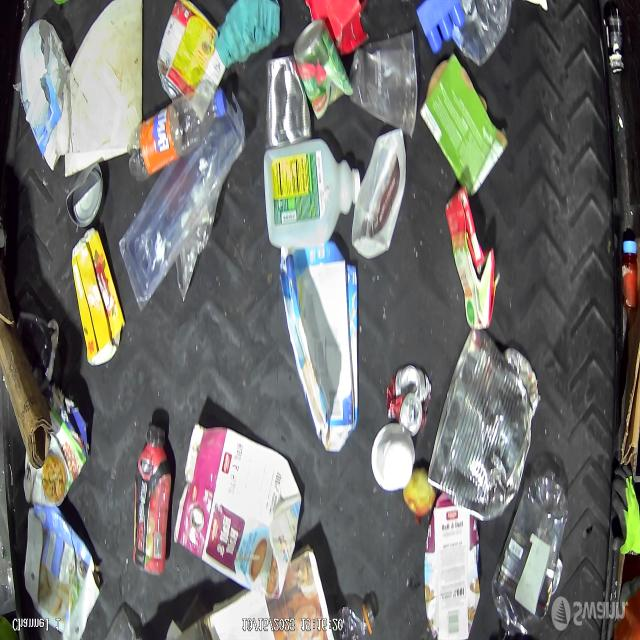can: (428, 326, 536, 522), (156, 0, 228, 118), (293, 18, 353, 121), (264, 56, 312, 149), (385, 365, 433, 441), (66, 161, 104, 230)
milk_jug: (20, 19, 73, 174), (350, 126, 408, 265)
non_white_jug: (173, 424, 303, 594), (280, 238, 359, 457), (262, 140, 360, 248)
plastic_bottle: (490, 467, 571, 640), (126, 84, 227, 184), (331, 593, 381, 640)
